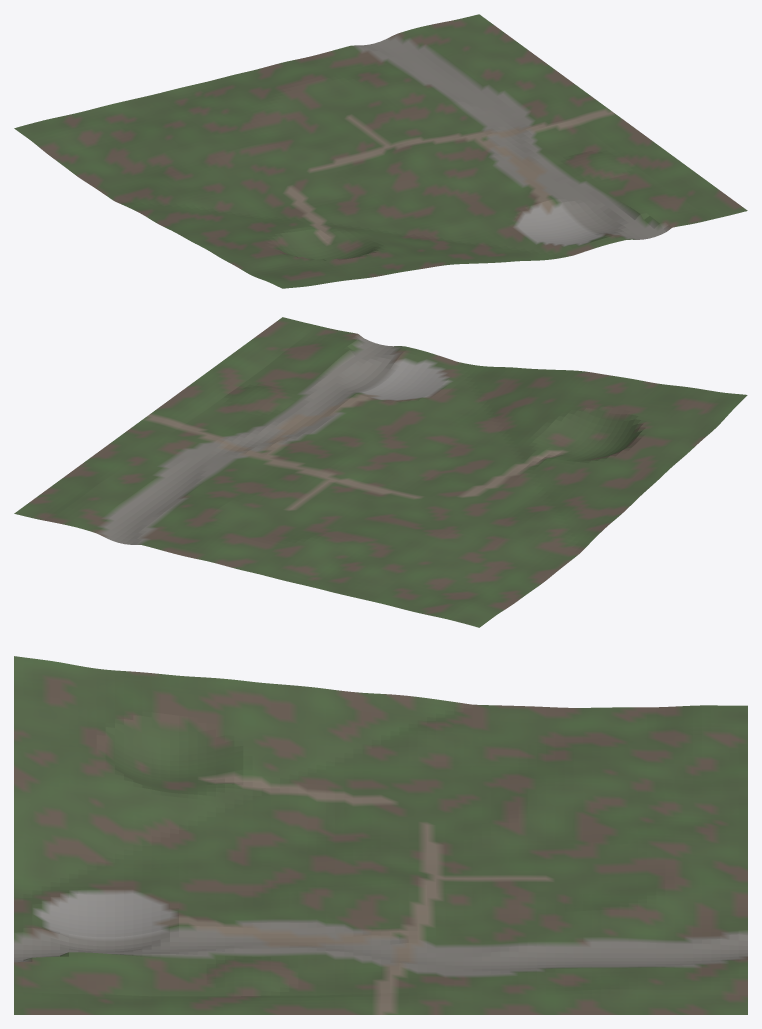
Rendered from Mist_Ground.fbx.
3 views of the same model, one above another, from view 1: azimuth 30°, elevation 25°; view 2: azimuth 150°, elevation 25°; view 3: azimuth 270°, elevation 25° (orthographic). The views are drawn at different scales.
Parts seen in each view (by area): view 1: Mist_Ground; view 2: Mist_Ground; view 3: Mist_Ground.
Part boxes in pixels (x1,y1,x2,y2): Mist_Ground: [14, 14, 747, 288]; Mist_Ground: [14, 317, 747, 627]; Mist_Ground: [14, 656, 747, 1014].
Bounding box in the file's own units: 160 × 14.8 × 160.
